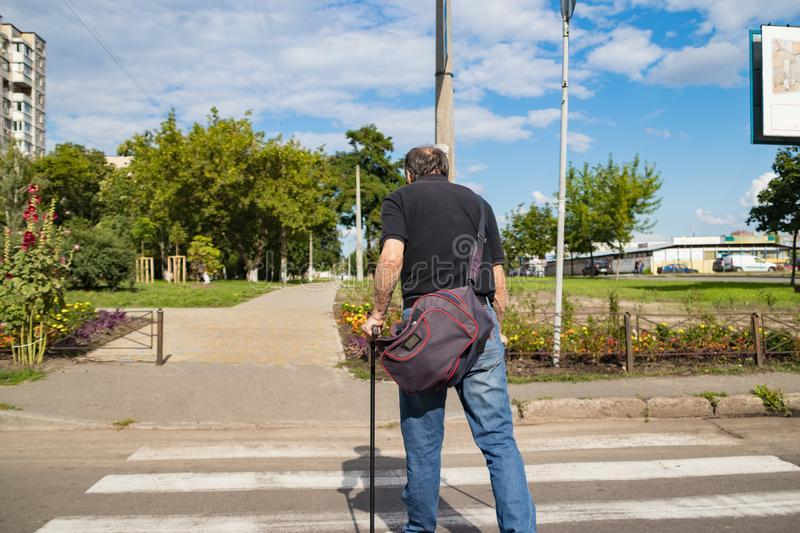crutches: (360, 145, 539, 533)
